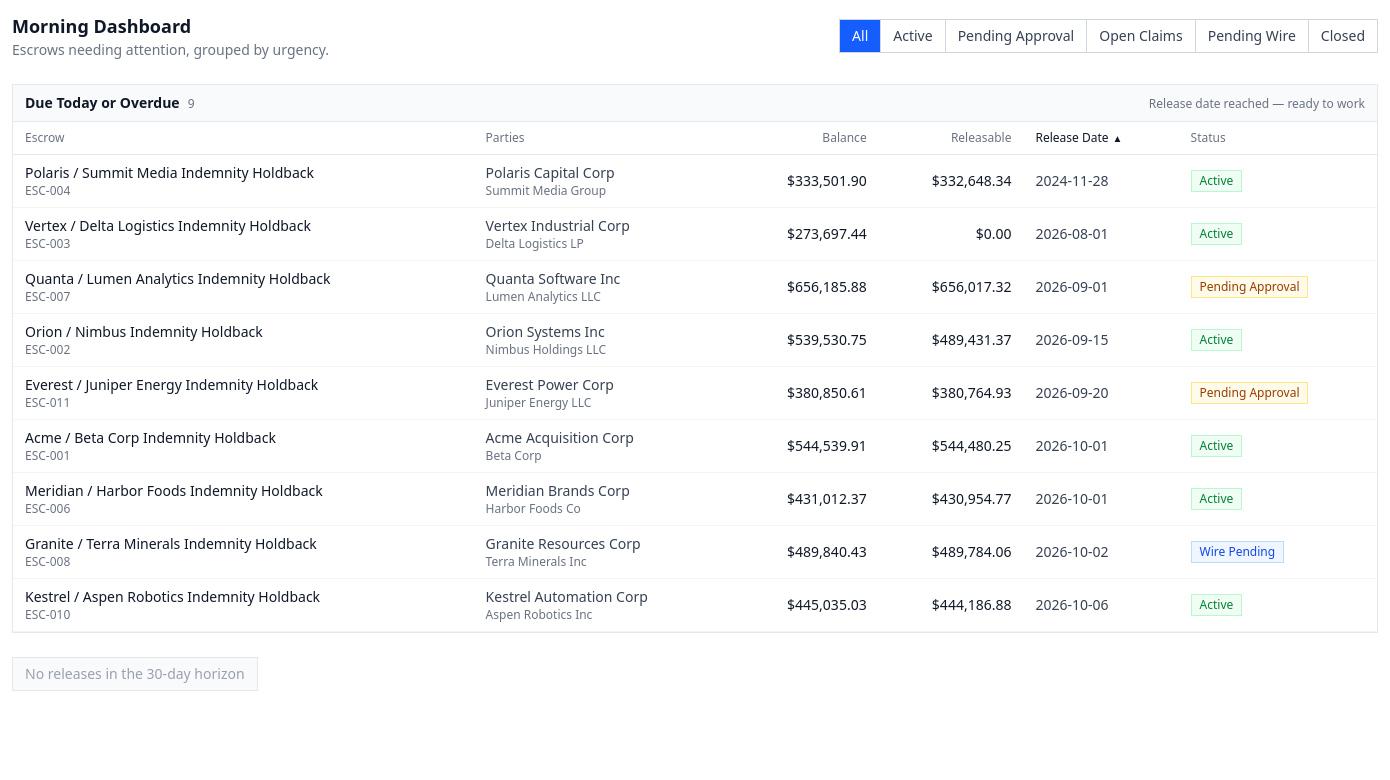
Dashboard › collapses to a flat table when a non-All filter is active
This screenshot has width=1390, height=780.
# Clicking the Open Claims filter toggle removes urgency grouping.
Click the button "Open Claims" at (1141, 36), box [1087,20,1196,52]
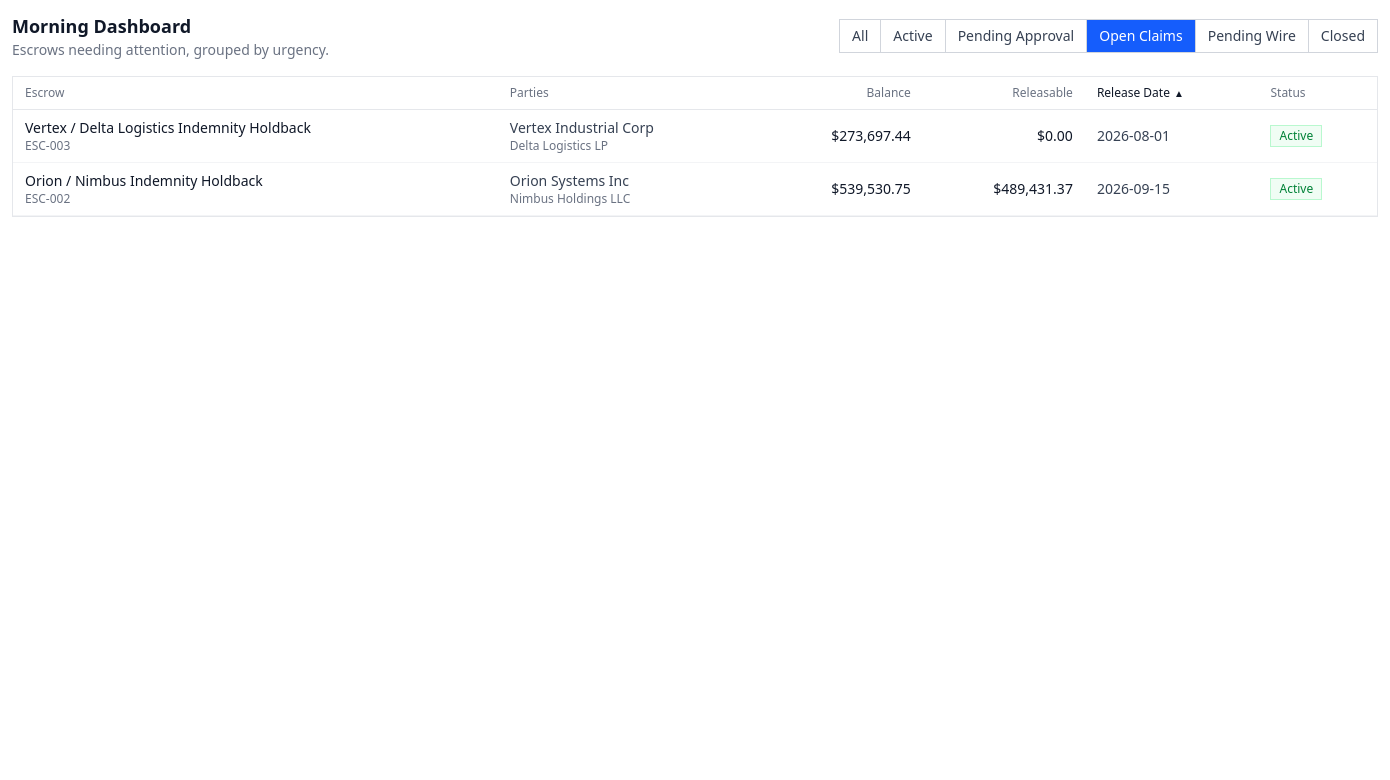
Now the heading "Due Today or Overdue" is gone
